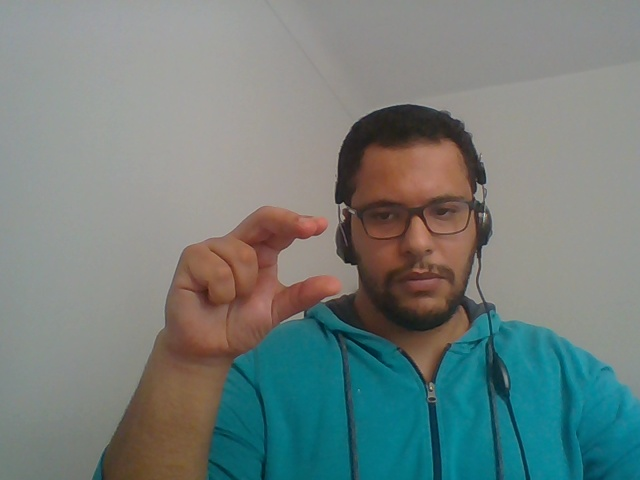no: (132, 182, 356, 371)
